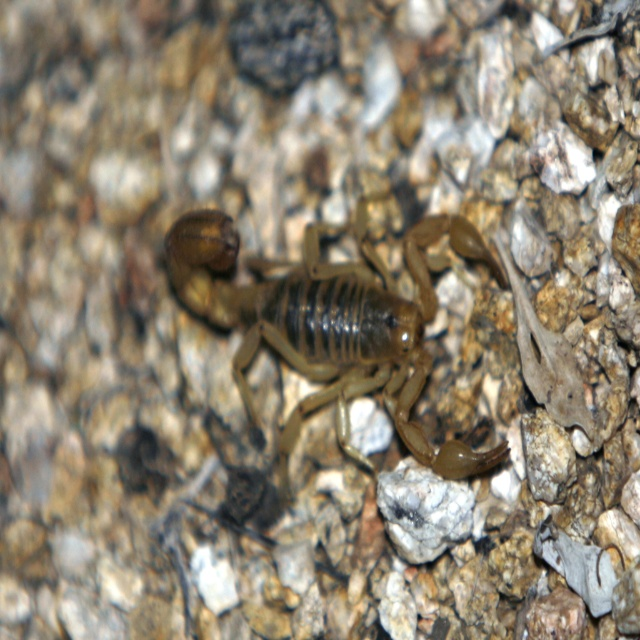Scorpion: (159, 203, 512, 482)
